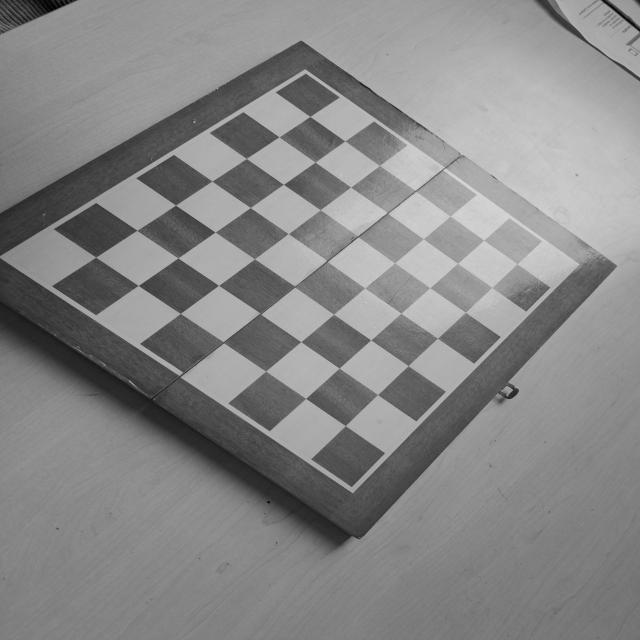chess-table-corners: (292, 66, 320, 82), (0, 249, 24, 266), (341, 478, 363, 495), (562, 258, 584, 272)
